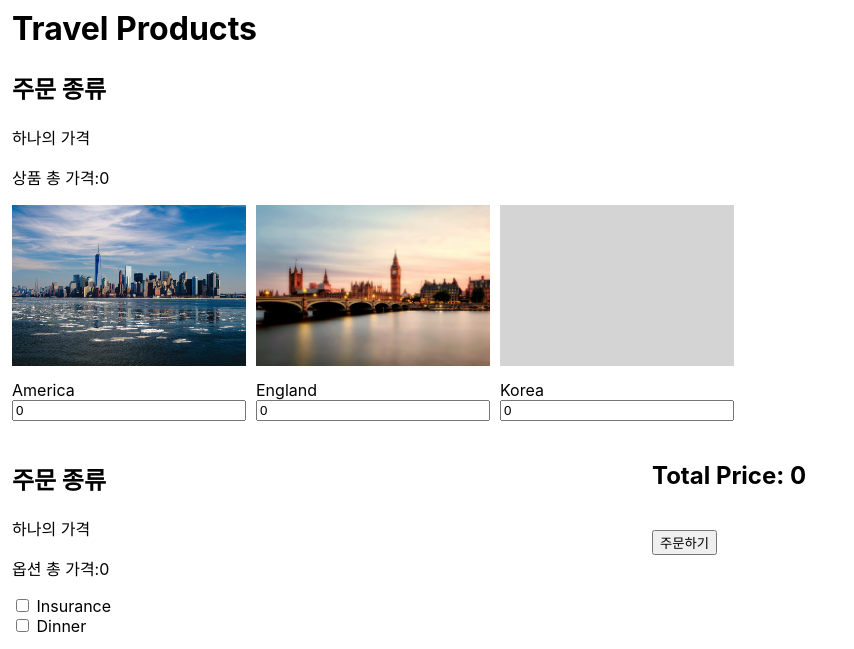
Test: 상품 가격, 옵션 가격을 더한 촉 가격 구하기 › 옵션 가격이 업데이트 되었을 경우 총 가격
Click the checkbox labelled "Insurance" at (22, 605), box x1=16 y1=599 x2=29 y2=612
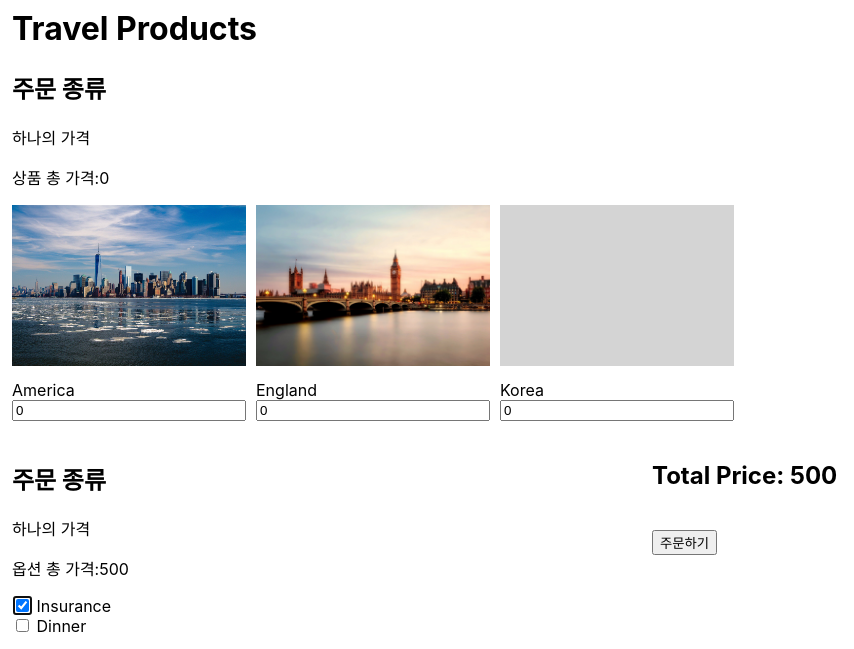
Now the heading "Total Price: 500" is shown, box x1=652 y1=461 x2=837 y2=490
